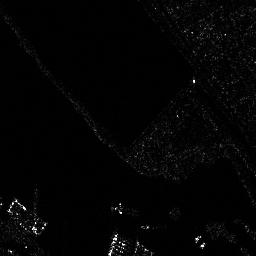ship: (113, 201, 151, 230)
